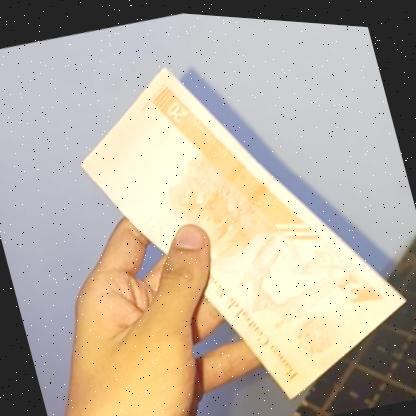twenty-back-vef: (51, 5, 416, 416)
